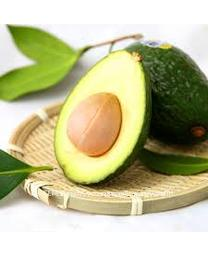avocado: (54, 51, 152, 187), (0, 51, 52, 68)
